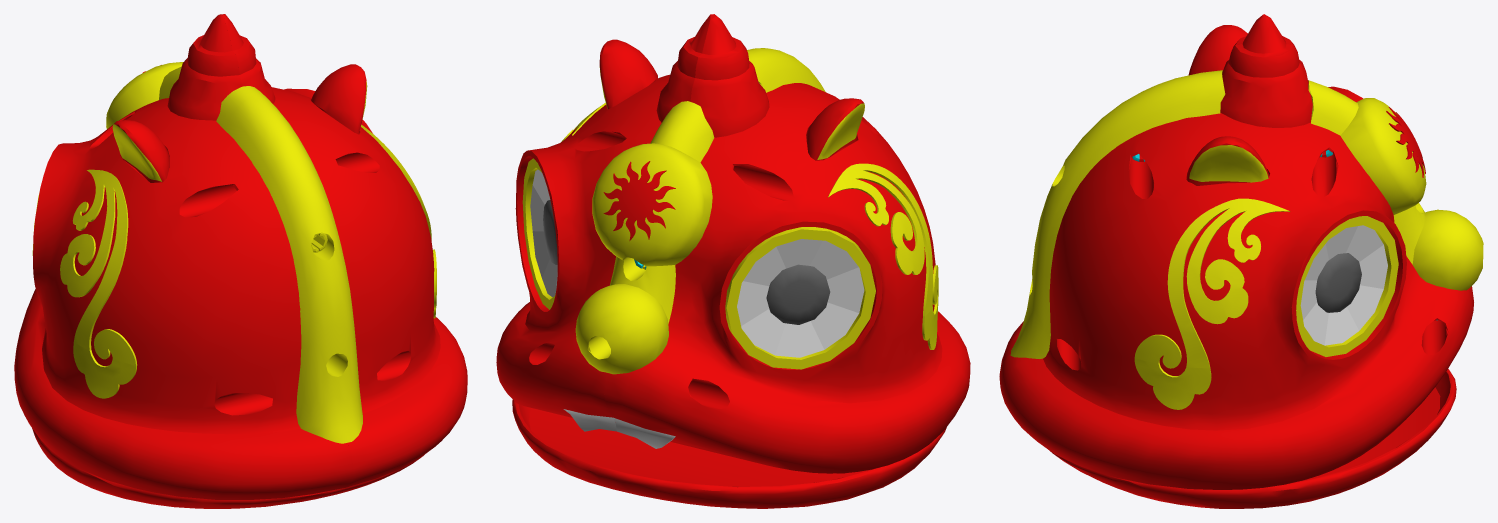
File: shizi_tou.fbx
The picture shows the model from 3 angles, left to right: view 1: azimuth 30°, elevation 25°; view 2: azimuth 150°, elevation 25°; view 3: azimuth 270°, elevation 25°; orthographic projection. The views are drawn at different scales.
Visible parts, largest first — view 1: tou; view 2: tou; view 3: tou.
Part boxes in pixels (<box>): tou: <box>14,14,467,508</box>; tou: <box>496,14,970,508</box>; tou: <box>999,14,1483,508</box>.
Size of the model in its own units: 91.62 by 90.56 by 96.74.
